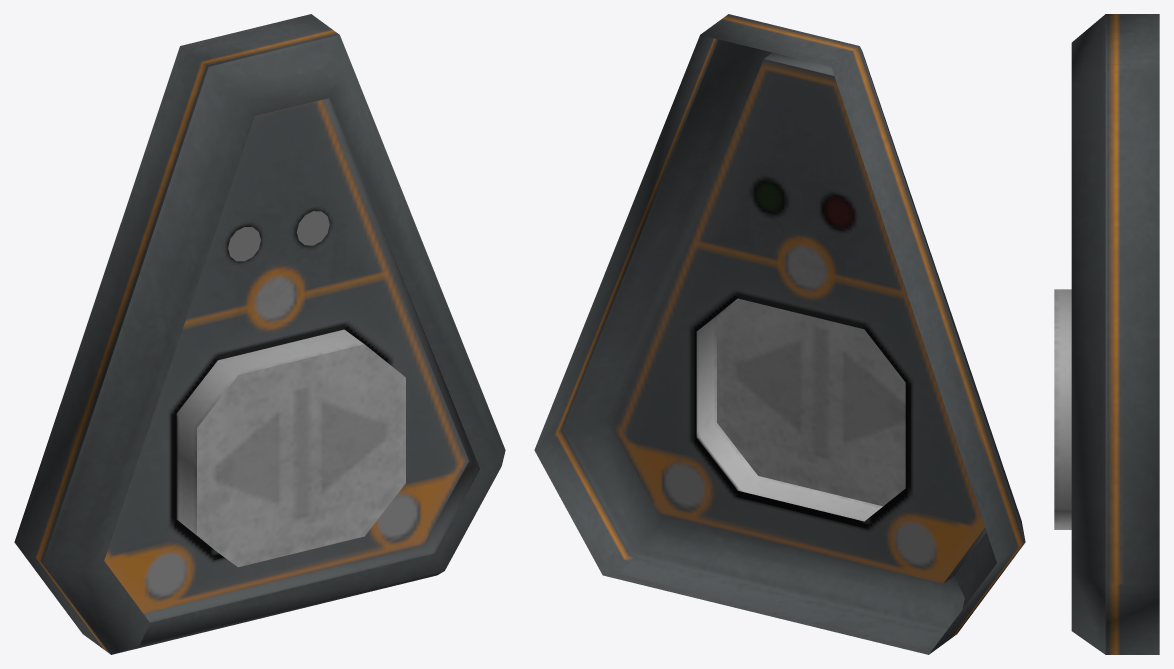
Rendered from Button B2A.fbx.
3 views of the same model, side by side, from view 1: azimuth 30°, elevation 25°; view 2: azimuth 150°, elevation 25°; view 3: azimuth 270°, elevation 25° (orthographic). The views are drawn at different scales.
Visible parts, largest first — view 1: Button B2A, ButtonHandle B2A, Button B2A Light_Red, Button B2A Light_Green; view 2: Button B2A, ButtonHandle B2A; view 3: Button B2A, ButtonHandle B2A.
Part boxes in pixels (bbox=[...]): Button B2A: bbox=[14, 14, 505, 654]; ButtonHandle B2A: bbox=[176, 329, 405, 567]; Button B2A Light_Red: bbox=[228, 227, 260, 261]; Button B2A Light_Green: bbox=[296, 211, 329, 245]; Button B2A: bbox=[534, 14, 1025, 654]; ButtonHandle B2A: bbox=[696, 298, 905, 521]; Button B2A: bbox=[1071, 14, 1159, 654]; ButtonHandle B2A: bbox=[1054, 289, 1071, 529].
Bounding box in the file's own units: 13.07 × 15.24 × 2.72.
Materials: 3 (1 with a texture image).
